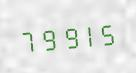five: (98, 17, 117, 48)
nine: (58, 20, 77, 52), (38, 22, 57, 53)
one: (78, 19, 97, 50)
seven: (18, 24, 37, 55)
